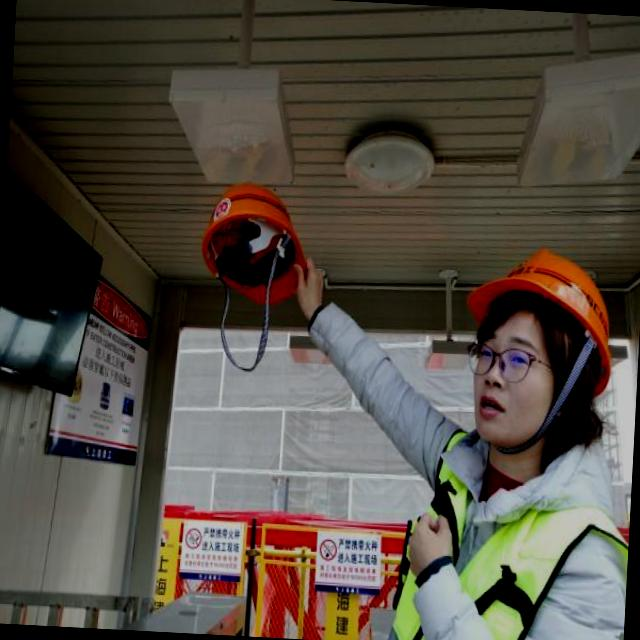helmet: (463, 229, 626, 375), (192, 177, 312, 314)
